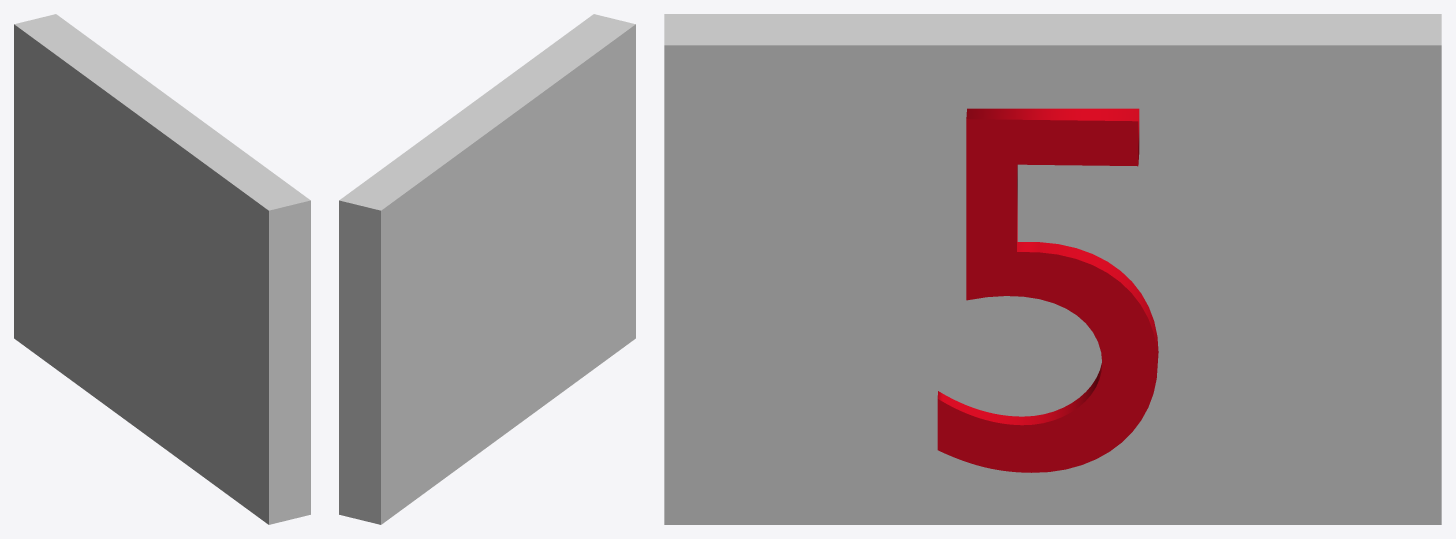
The model's file is row 5.fbx.
3 views of the same model, side by side, from view 1: azimuth 30°, elevation 25°; view 2: azimuth 150°, elevation 25°; view 3: azimuth 270°, elevation 25° (orthographic). The views are drawn at different scales.
Parts seen in each view (by area): view 1: Cube; view 2: Cube; view 3: Cube, Text.
Boxes of the visible parts, x1,y1,x2,y2 form: Cube: (14,14,310,524); Cube: (339,14,635,524); Cube: (664,14,1441,524); Text: (937,108,1158,472).
Bounding box in the file's own units: 41.25 × 212 × 312.
